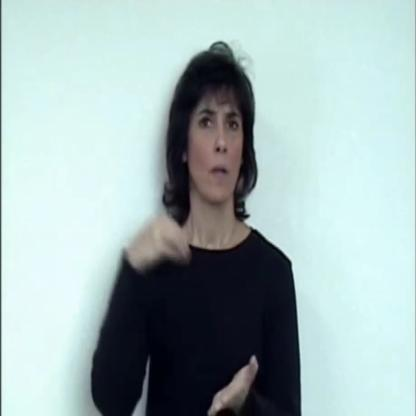Expensive: (122, 197, 268, 416)
